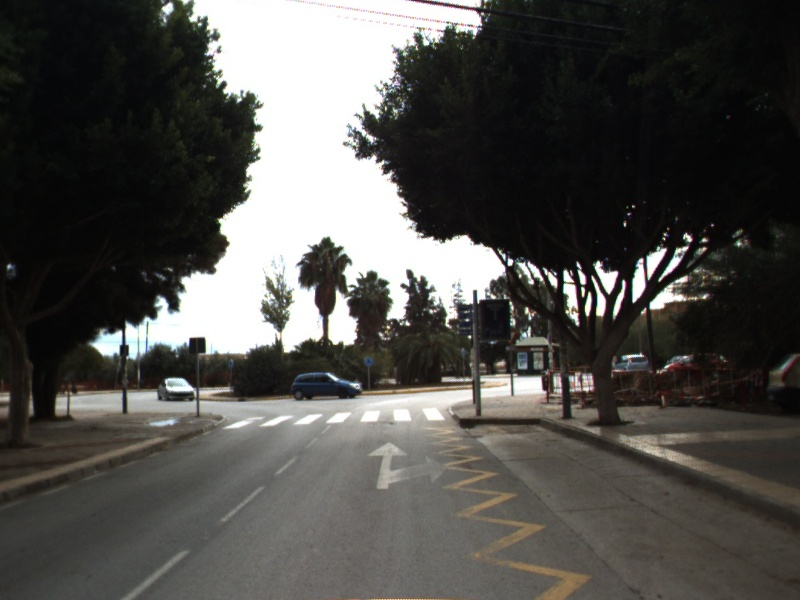STRAIGHT_RIGHT: (364, 440, 449, 491)
